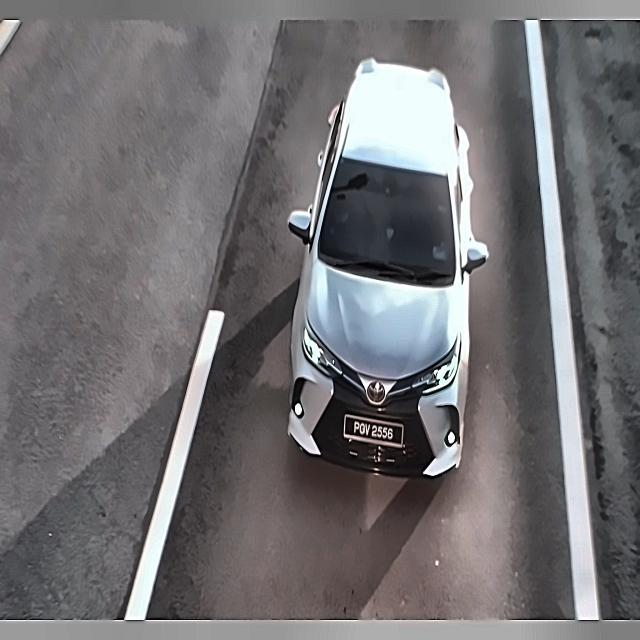car: (342, 409, 406, 455)
